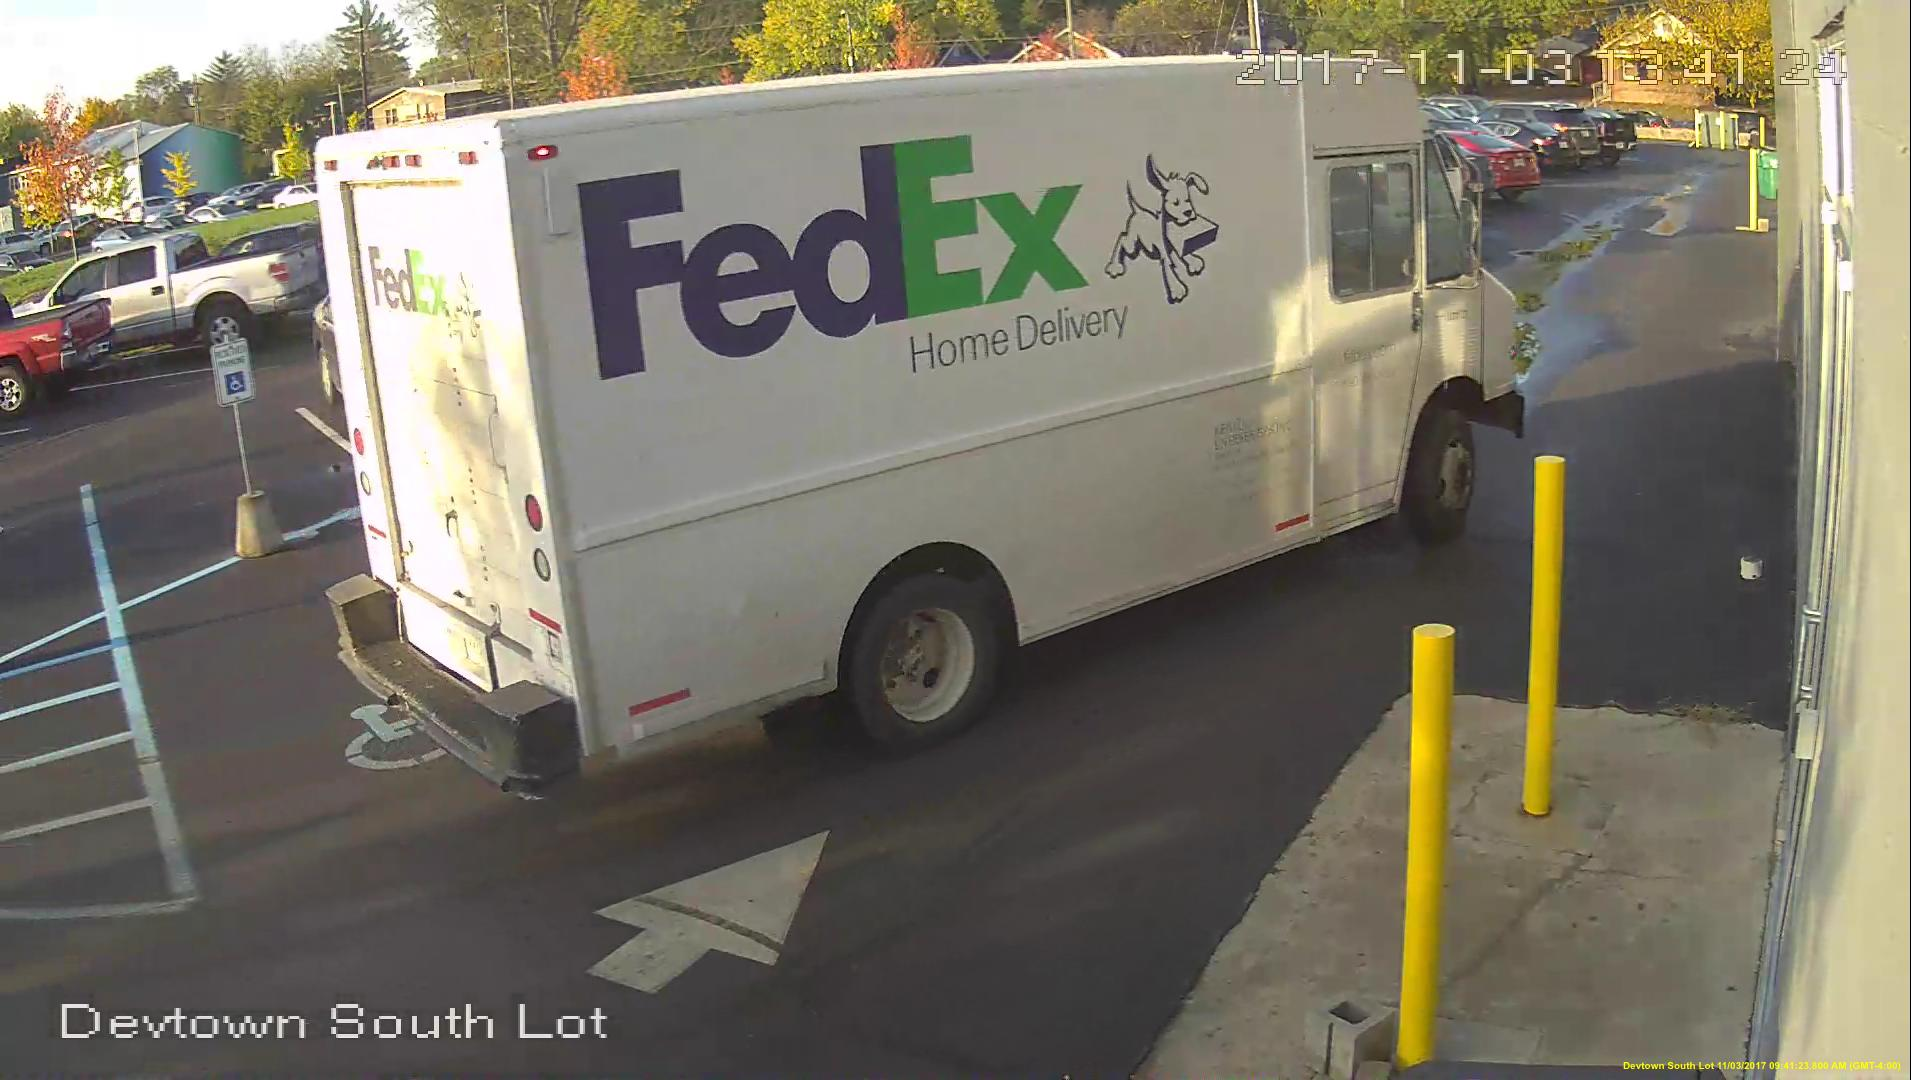fedex_truck: (312, 56, 1536, 799)
